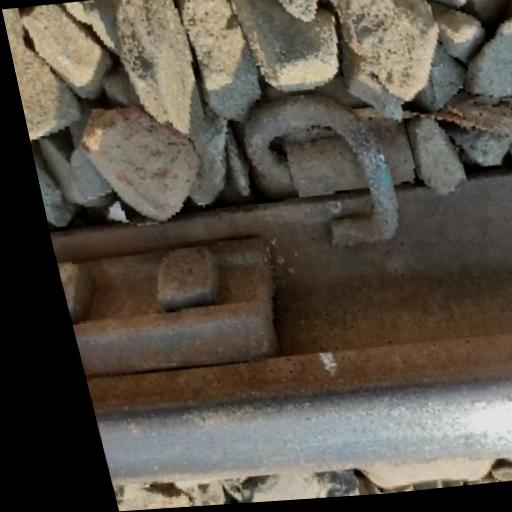erc_good: (245, 97, 415, 246)
